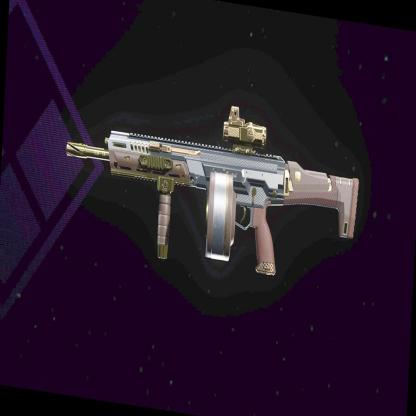rifle: (66, 79, 370, 299)
